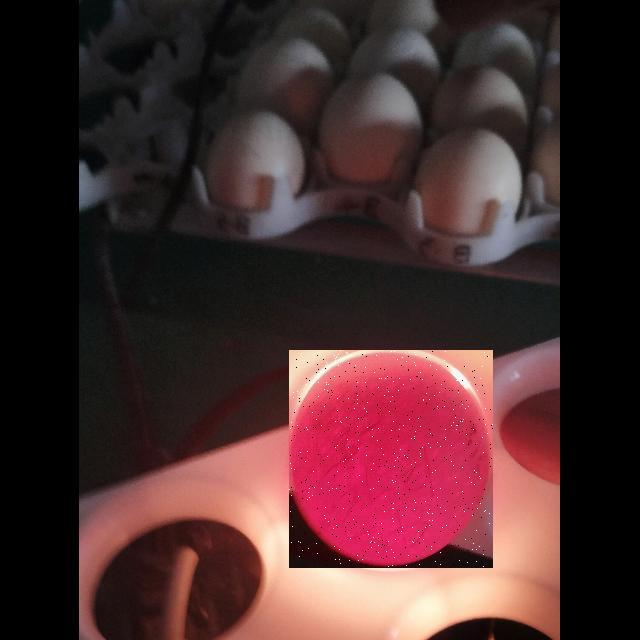Infertile: (289, 350, 493, 568)
